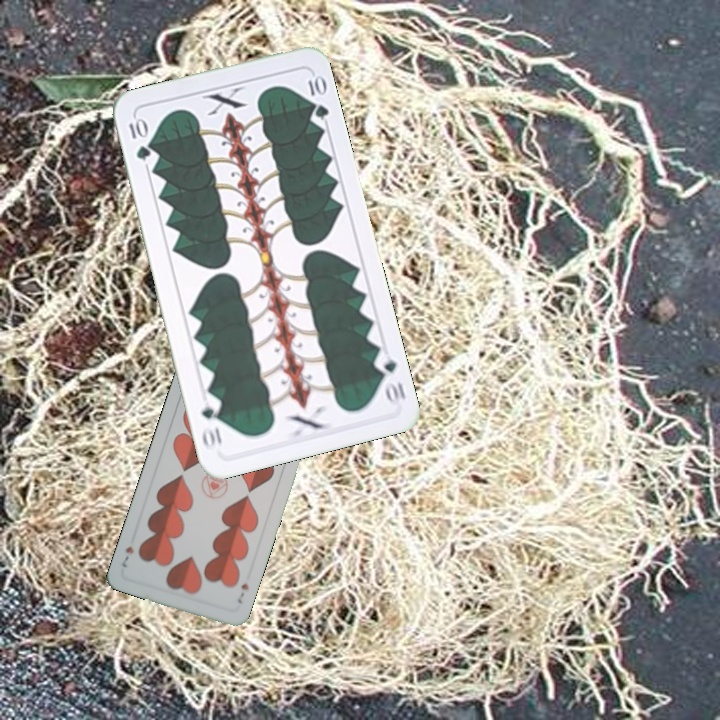G10: (370, 351, 409, 408), (124, 114, 153, 163)
H7: (232, 579, 251, 606)
